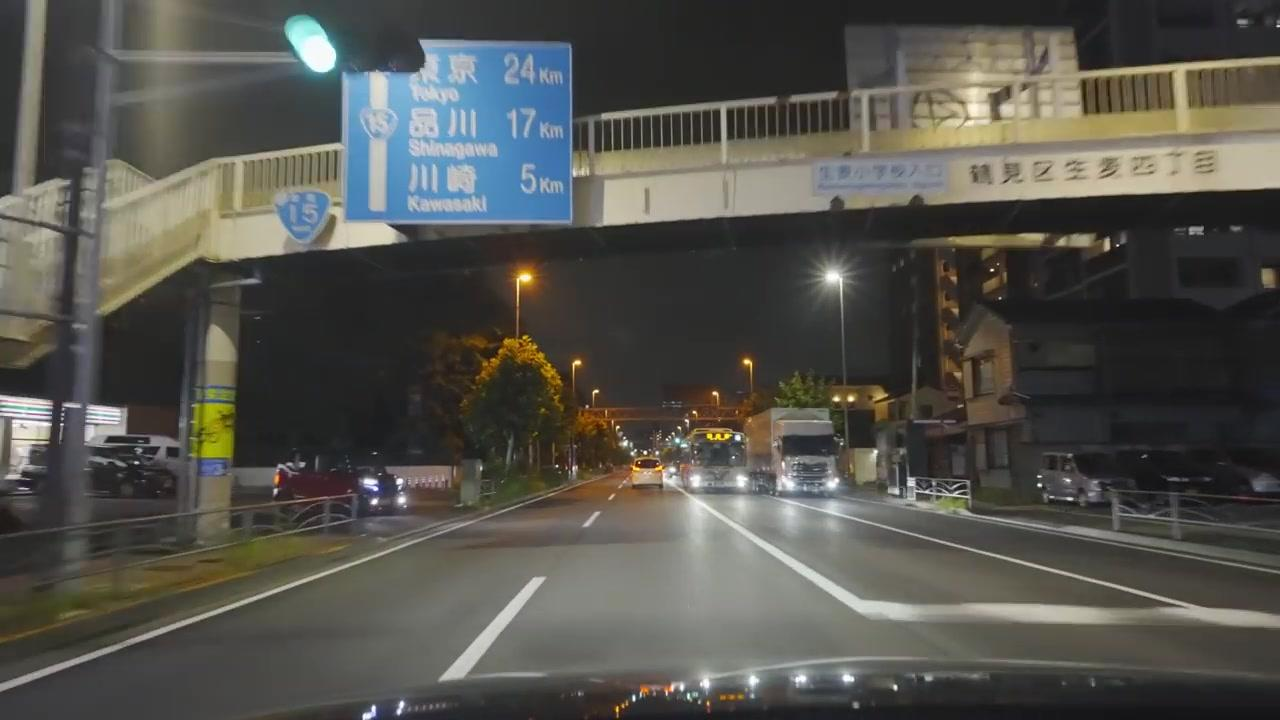bus: (730, 411, 840, 494), (681, 424, 750, 492)
car: (15, 444, 178, 499), (273, 457, 405, 514), (98, 440, 184, 493), (1036, 451, 1110, 506), (1133, 448, 1217, 492), (343, 465, 406, 514), (1201, 462, 1280, 500), (631, 454, 664, 489)
truck: (744, 408, 841, 495)
